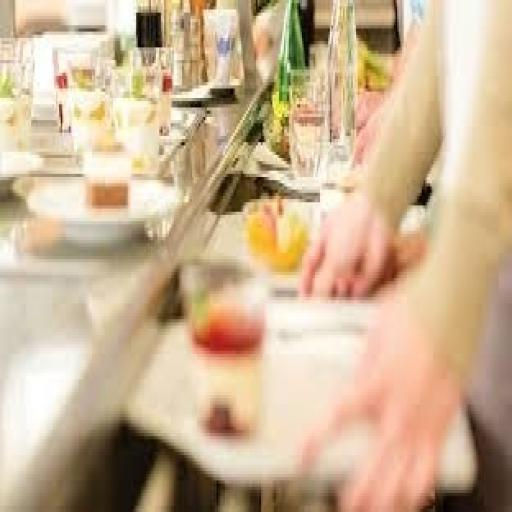eating: (297, 0, 510, 509)
